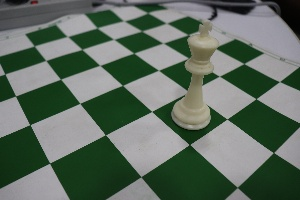white_king: (174, 11, 224, 150)
